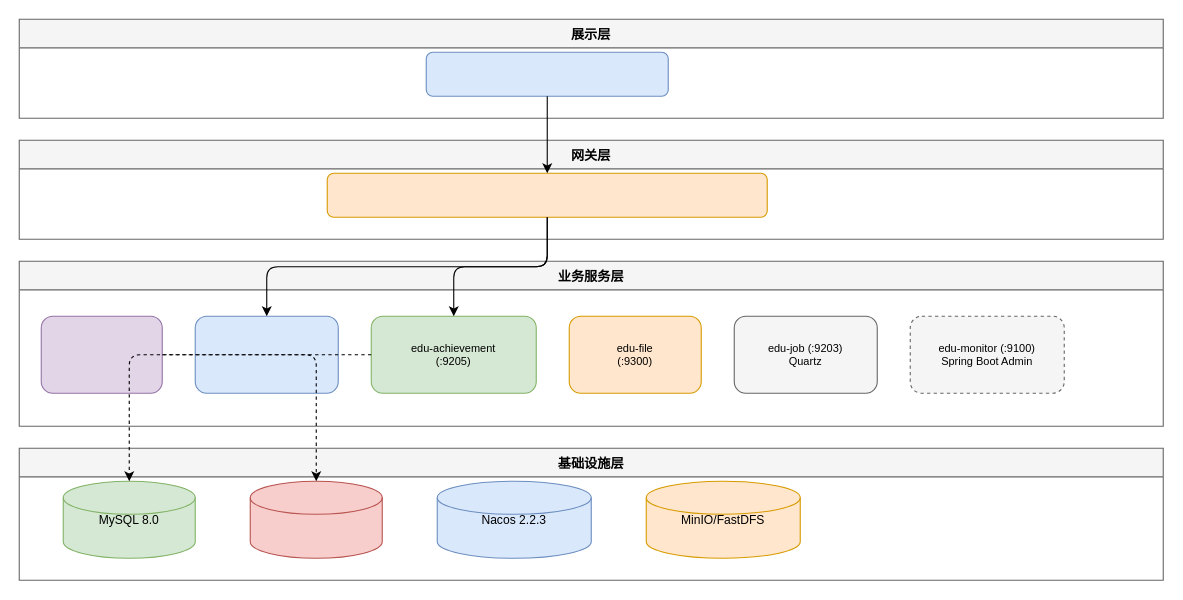
Image size: 1183x600. Some labels were removed from this diagram. The shapes that lost their labels are listed below. From the top down, each one's centre as x and y in pixels, then its label:
At (546,73): "Vue 2 + Element UI (开发端口 :80)".
At (546,194): "Spring Cloud Gateway (:8080) | AuthFilter | CORS | Route".
At (101,354): "edu-auth (:9200)".
At (266,354): "edu-system (:9201)".
At (315,519): "Redis 5.0".
